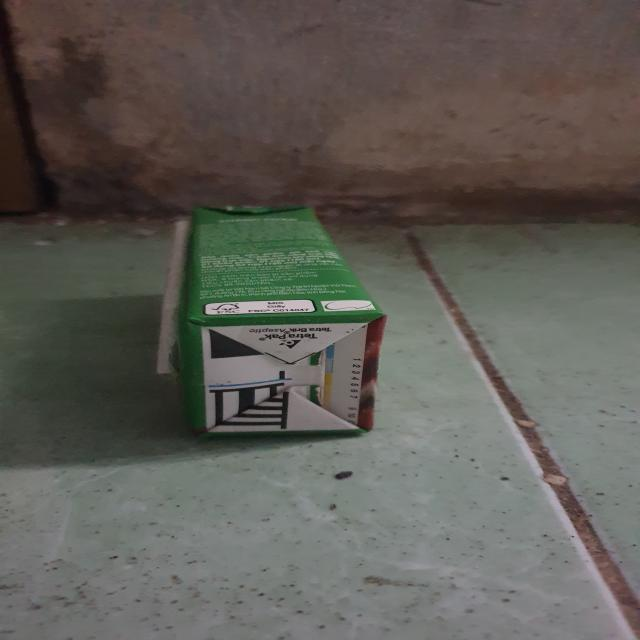Milo: (148, 198, 399, 445)
